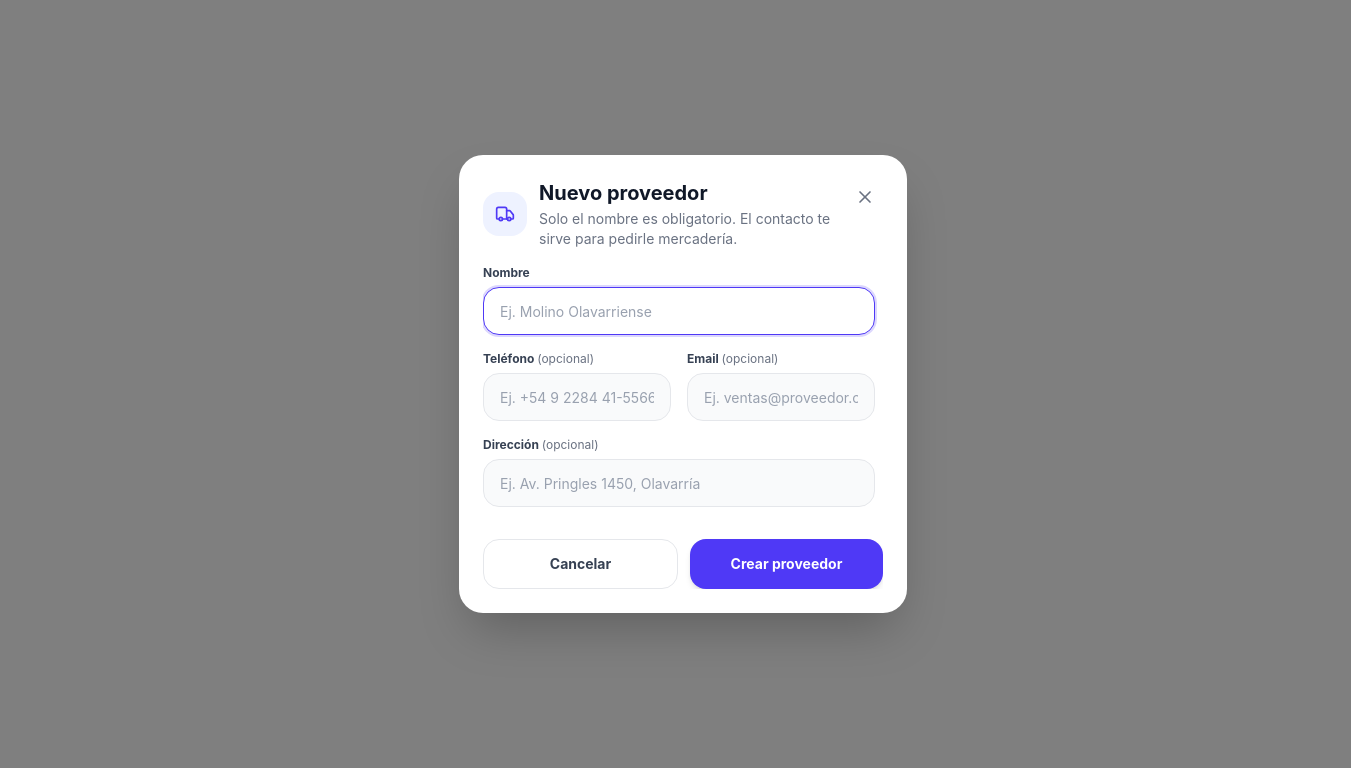
Test: SupplierFormDialog › ante un fallo de red muestra el error dentro del diálogo, en español
Type "Molino Olavarriense" into the field labelled "Nombre" at (679, 311), box [483,287,875,335]
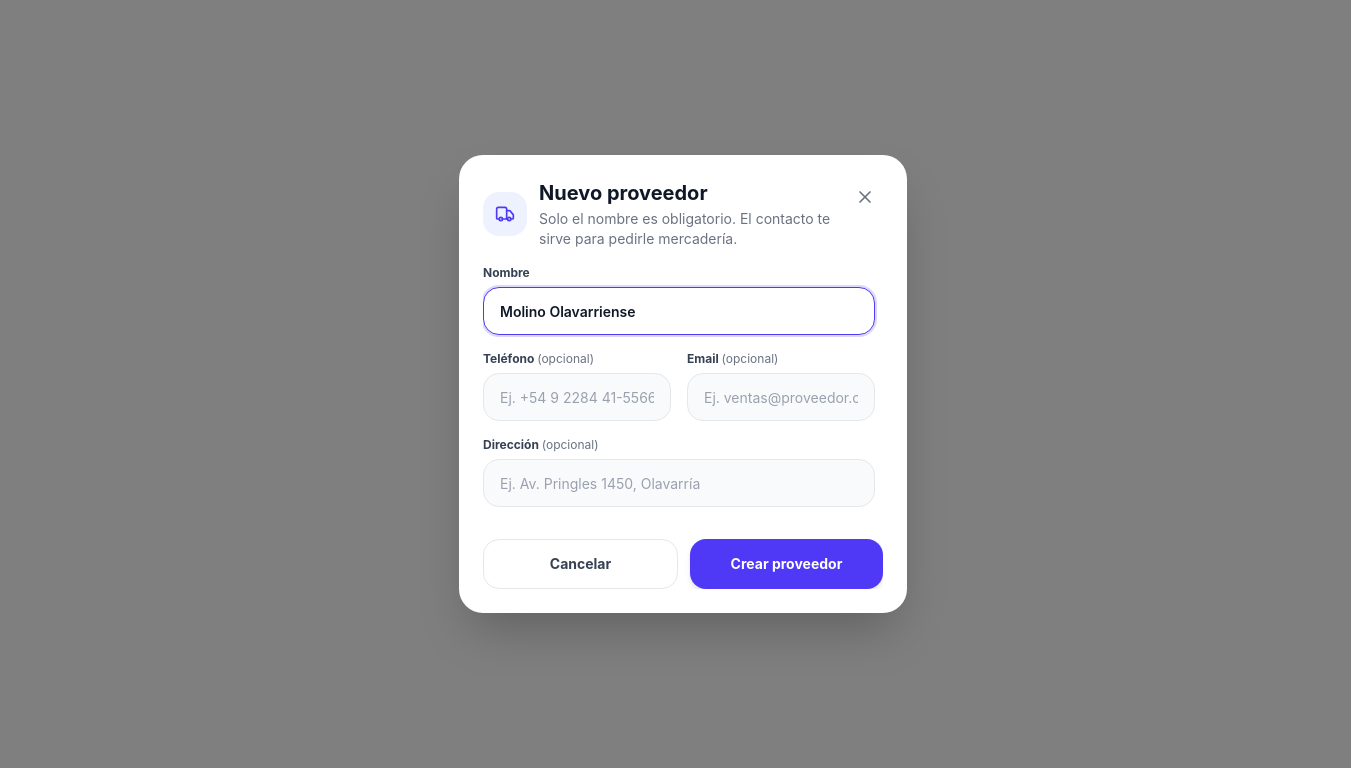
Click the button "Crear proveedor" at (786, 564), box [690,539,883,589]
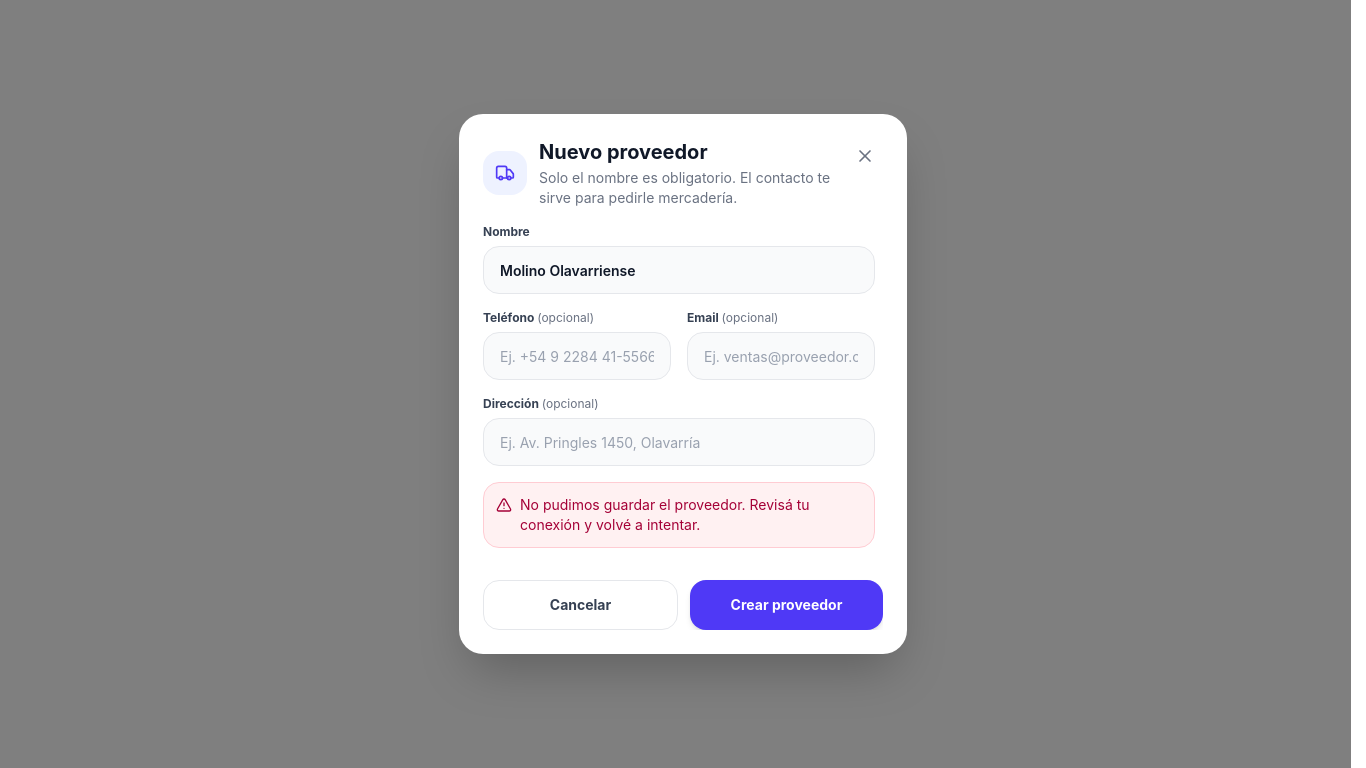
Expected: the message reads "No pudimos guardar el proveedor. Revisá tu conexión y volvé a intentar.", [520,496,810,533]
